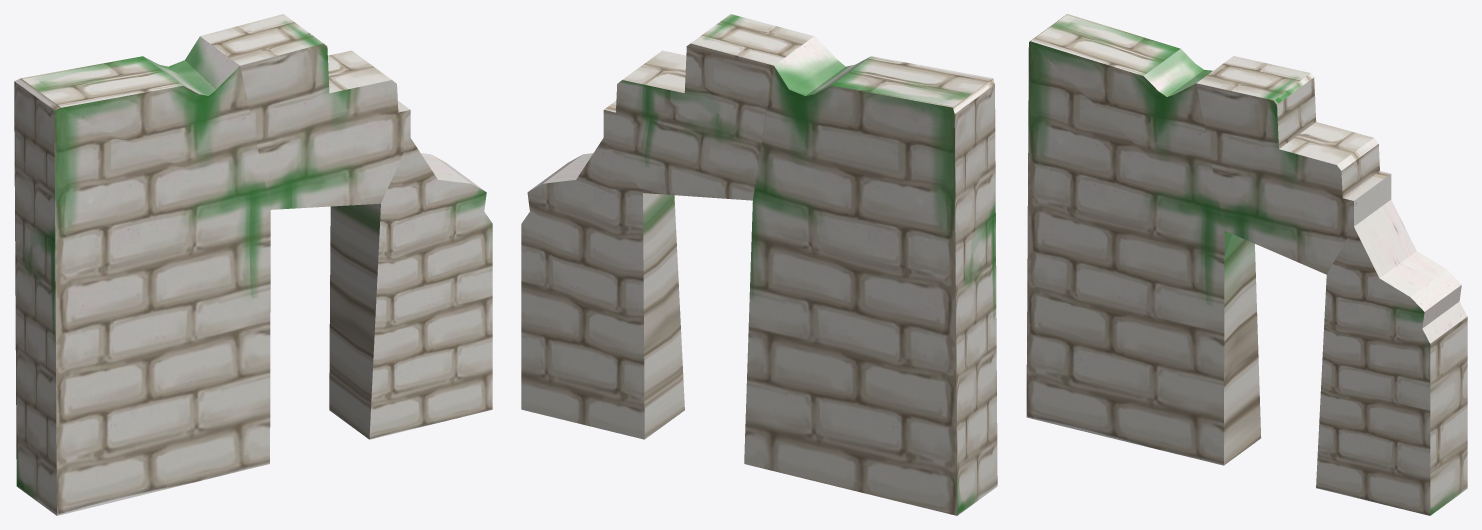
The model's file is 殘壁門.fbx.
3 renders of one model, left to right at view 1: azimuth 30°, elevation 25°; view 2: azimuth 150°, elevation 25°; view 3: azimuth 330°, elevation 25°, orthographic. The views are drawn at different scales.
Visible parts, largest first — view 1: 立方體.005; view 2: 立方體.005; view 3: 立方體.005.
Boxes of the visible parts, x1=… form: 立方體.005: x1=14, y1=14, x2=492, y2=515; 立方體.005: x1=521, y1=14, x2=997, y2=515; 立方體.005: x1=1026, y1=14, x2=1467, y2=515.
Bounding box in the file's own units: 746 × 666 × 127.
1 material, 1 textured.
